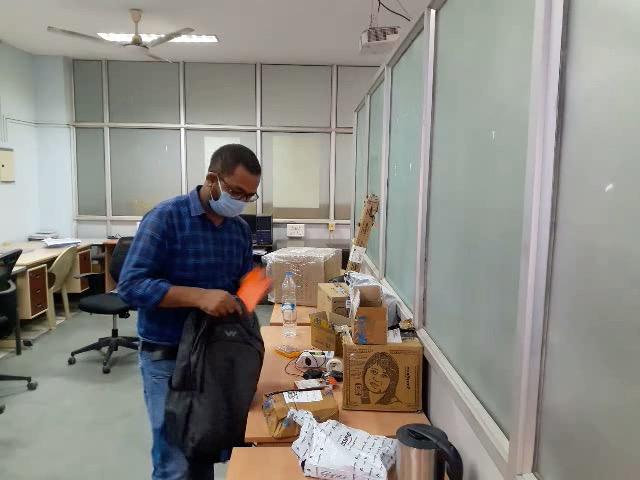shoplifting: (86, 254, 337, 450)
